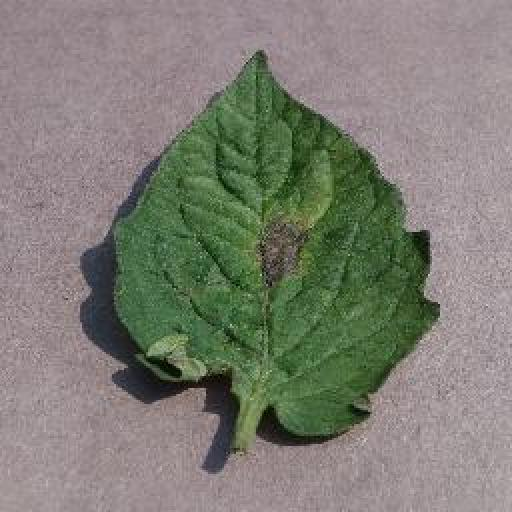disease_tomato: (109, 51, 440, 440)
